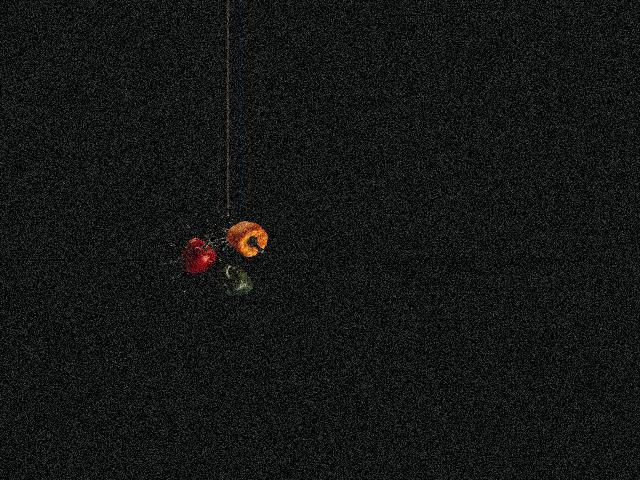bell_pepper: (180, 228, 222, 280)
